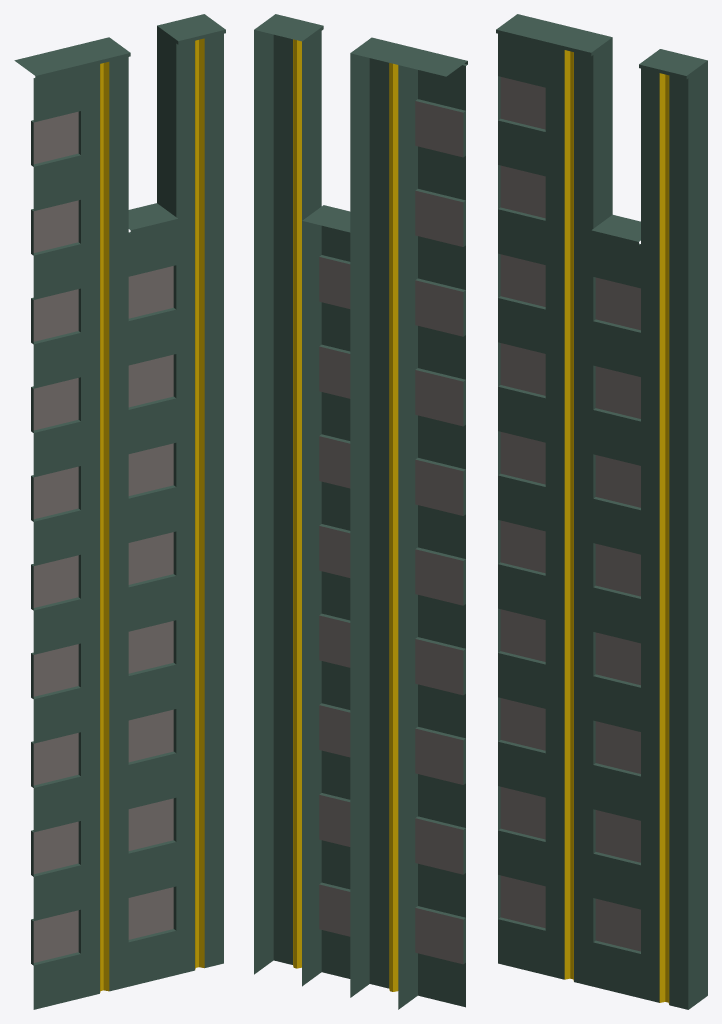
3 renders of one model, left to right at view 1: azimuth 30°, elevation 25°; view 2: azimuth 150°, elevation 25°; view 3: azimuth 330°, elevation 25°, orthographic.
Parts seen in each view (by area): view 1: Column.031; view 2: Column.031; view 3: Column.031.
Boxes of the visible parts, x1,y1,x2,y2 form: Column.031: (14,14,225,1009); Column.031: (254,14,467,1009); Column.031: (496,14,707,1009).
Bounding box in the file's own units: 1114 × 5230 × 217.
